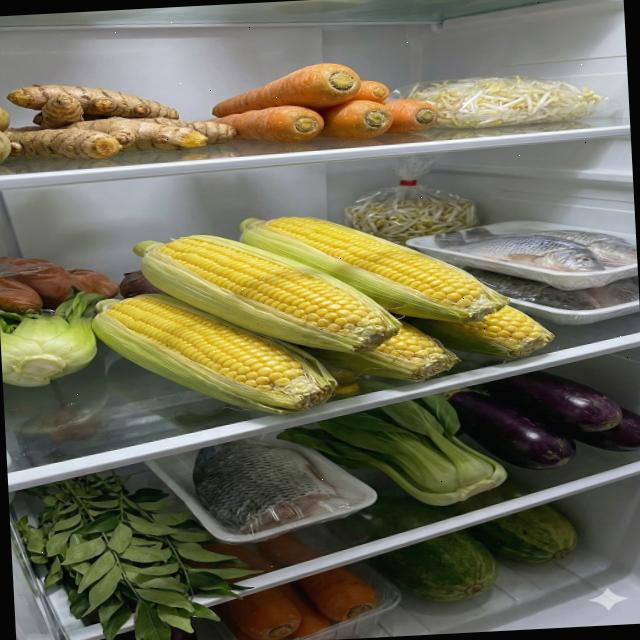bean_sprouts: (406, 70, 604, 132), (342, 193, 482, 250)
carrot: (202, 57, 439, 148), (223, 565, 380, 640)
corn: (85, 202, 560, 427)
curry_leaves: (13, 460, 270, 640)
eggplant: (441, 364, 640, 476)
fish: (190, 434, 339, 536), (432, 219, 638, 281), (461, 258, 639, 318)
pakchoy: (272, 390, 510, 514), (0, 289, 111, 388)
